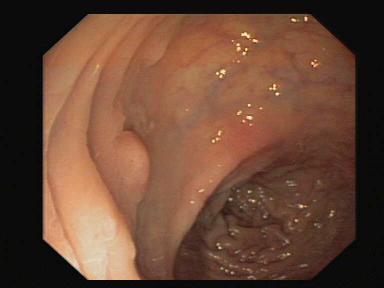polyp: (104, 119, 158, 224)
